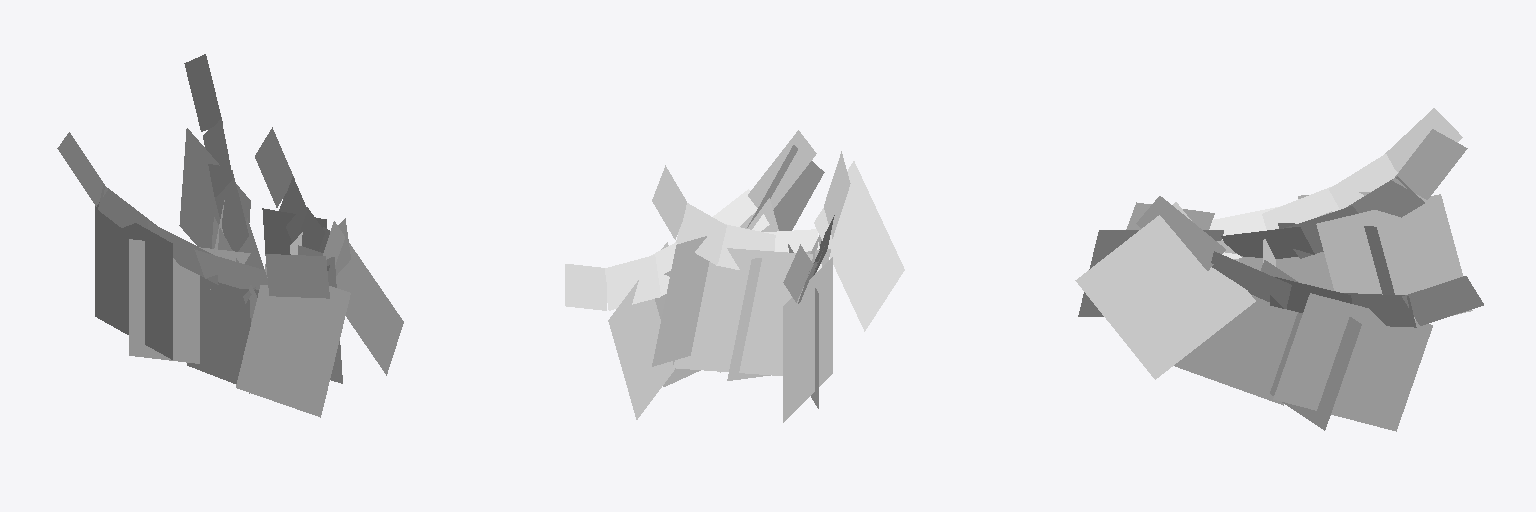
The model's file is spruce_branch_1.obj.
The picture shows the model from 3 angles: view 1: azimuth 30°, elevation 25°; view 2: azimuth 150°, elevation 25°; view 3: azimuth 270°, elevation 25°; orthographic projection.
Parts seen in each view (by area): view 1: cube.021, cube.022, cube.020, cube.014, cube.023, cube.004, cube.016, cube.001, cube.009, cube.015, cube.002, cube.018 (+8 smaller); view 2: cube.003, cube.021, cube.022, cube.012, cube.004, cube.008, cube.014, cube.007, cube.009, cube.000, cube.005, cube.001 (+6 smaller); view 3: cube.014, cube.012, cube.004, cube.013, cube.011, cube.001, cube.009, cube.007, cube, cube.006, cube.017, cube.000 (+10 smaller).
Boxes of the visible parts, box(x1,y1,x2,y2) form: cube.021: box(236, 264, 350, 417); cube.022: box(95, 202, 172, 359); cube.020: box(129, 239, 250, 363); cube.014: box(323, 221, 403, 375); cube.023: box(187, 276, 258, 383); cube.004: box(179, 128, 250, 248); cube.016: box(265, 254, 329, 298); cube.001: box(184, 54, 222, 131); cube.009: box(255, 127, 294, 207); cube.015: box(194, 249, 267, 289); cube.002: box(215, 170, 248, 251); cube.018: box(57, 132, 107, 206); cube.003: box(673, 248, 812, 375); cube.021: box(814, 161, 904, 331); cube.022: box(783, 257, 832, 422); cube.012: box(608, 242, 674, 419); cube.004: box(652, 236, 709, 366); cube.008: box(605, 255, 660, 310); cube.014: box(747, 145, 824, 230); cube.007: box(748, 130, 816, 209); cube.009: box(565, 264, 606, 310); cube.000: box(676, 203, 726, 264); cube.005: box(727, 249, 830, 380); cube.001: box(652, 165, 686, 239); cube.014: box(1075, 202, 1255, 379); cube.012: box(1273, 293, 1432, 431); cube.004: box(1316, 194, 1472, 320); cube.013: box(1174, 295, 1297, 405); cube.011: box(1261, 260, 1361, 430); cube.001: box(1392, 129, 1467, 199); cube.009: box(1402, 276, 1483, 325); cube.007: box(1136, 196, 1225, 270); cube: box(1221, 227, 1314, 258); cube.006: box(1211, 251, 1291, 308); cube.017: box(1329, 154, 1397, 209); cube.000: box(1346, 176, 1424, 217).
Size of the model in its own units: 1.1 by 1.35 by 1.79.